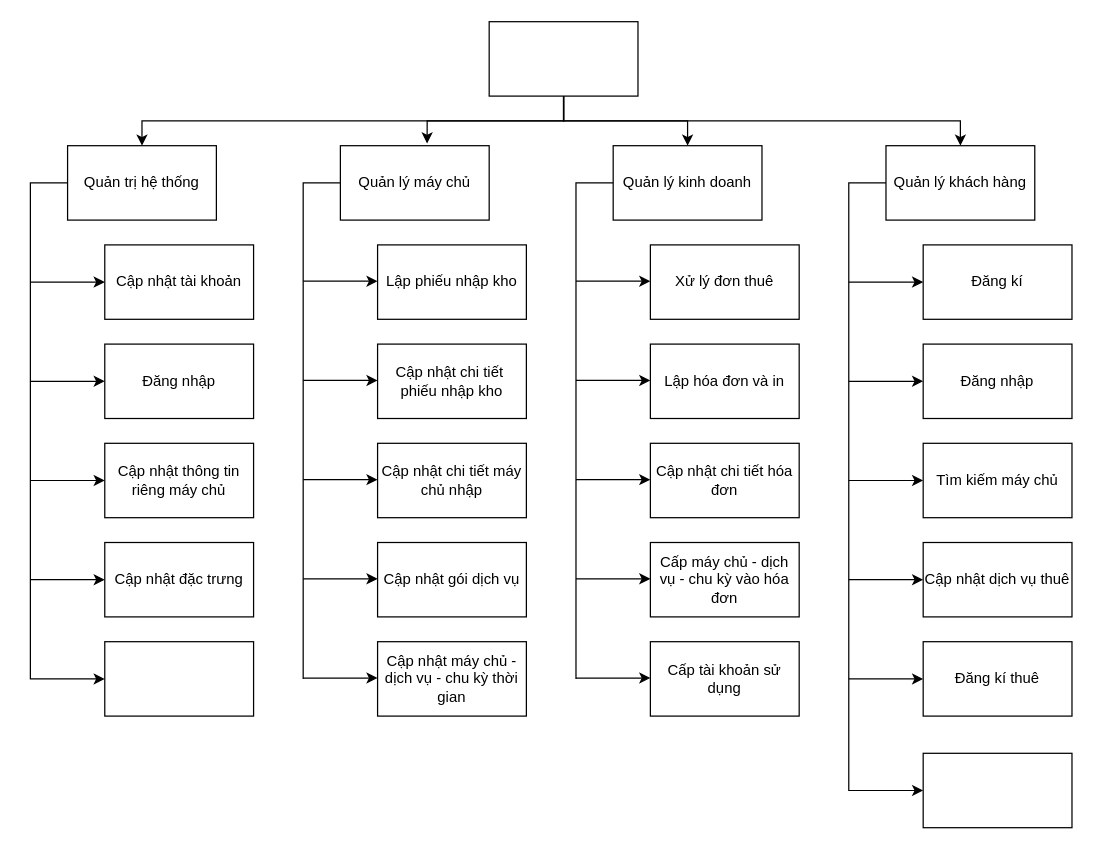
The diagram is 1094 pixels wide and 849 high, and some of its shapes have lost their labels. Each missing label, with the centre of its shape:
"Cập nhật đặc trưng - máy chủ" belongs at (179,678).
"In tài khoản" belongs at (997,790).
"Quản lý cho thuê máy chủ" belongs at (563,58).
